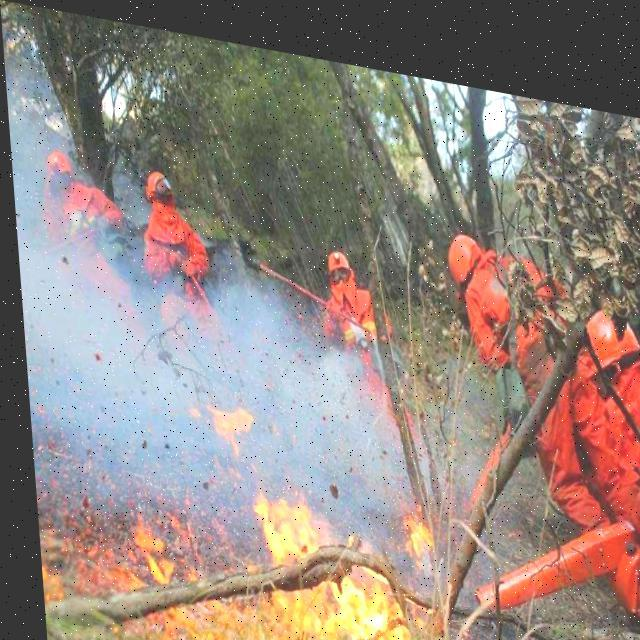Fire: (31, 364, 455, 639)
